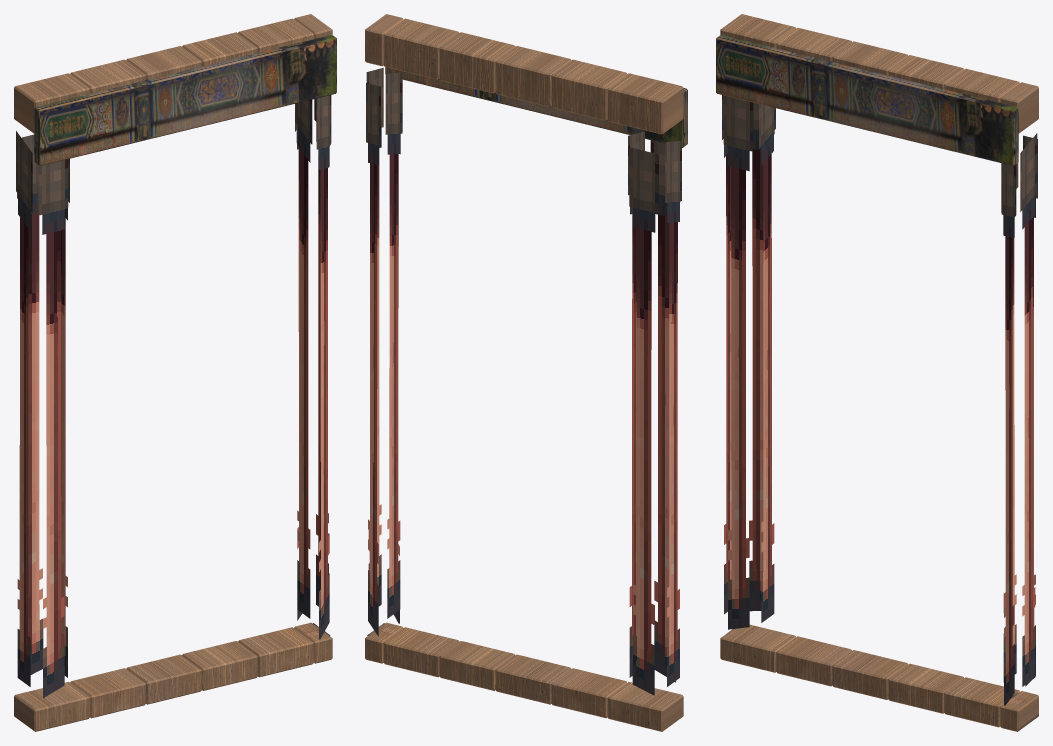
Rendered from door_open.obj.
3 views of the same model, side by side, from view 1: azimuth 30°, elevation 25°; view 2: azimuth 150°, elevation 25°; view 3: azimuth 330°, elevation 25° (orthographic).
Visible parts, largest first — view 1: Facade_joinery.051, Painted_lintel.002, Facade_joinery.052, Facade_joinery.053, Facade_joinery.055, Facade_joinery.056, Facade_joinery.057, Facade_joinery.054, Facade_joinery.045, Facade_joinery.046, Facade_joinery.047, Facade_joinery.048 (+2 smaller); view 2: Facade_joinery.051, Facade_joinery.052, Facade_joinery.045, Facade_joinery.048, Facade_joinery.047, Facade_joinery.049, Facade_joinery.046, Painted_lintel.002, Facade_joinery.053, Facade_joinery.055, Facade_joinery.057, Facade_joinery.054 (+3 smaller); view 3: Facade_joinery.051, Painted_lintel.002, Facade_joinery.052, Facade_joinery.056, Facade_joinery.055, Facade_joinery.054, Facade_joinery.053, Facade_joinery.057, Facade_joinery.048, Facade_joinery.049, Facade_joinery.045, Facade_joinery.046 (+3 smaller).
Part boxes in pixels (x1=…): Facade_joinery.051: x1=16, y1=131, x2=69, y2=706; Painted_lintel.002: x1=34, y1=35, x2=336, y2=165; Facade_joinery.052: x1=295, y1=95, x2=331, y2=639; Facade_joinery.053: x1=14, y1=682, x2=89, y2=731; Facade_joinery.055: x1=126, y1=654, x2=201, y2=704; Facade_joinery.056: x1=182, y1=641, x2=257, y2=690; Facade_joinery.057: x1=238, y1=627, x2=313, y2=677; Facade_joinery.054: x1=70, y1=668, x2=145, y2=718; Facade_joinery.045: x1=14, y1=73, x2=89, y2=133; Facade_joinery.046: x1=70, y1=59, x2=145, y2=93; Facade_joinery.047: x1=126, y1=46, x2=201, y2=79; Facade_joinery.048: x1=182, y1=32, x2=257, y2=65; Facade_joinery.051: x1=628, y1=131, x2=681, y2=701; Facade_joinery.052: x1=366, y1=67, x2=402, y2=636; Facade_joinery.045: x1=607, y1=73, x2=683, y2=134; Facade_joinery.048: x1=439, y1=32, x2=515, y2=93; Facade_joinery.047: x1=495, y1=46, x2=571, y2=107; Facade_joinery.049: x1=383, y1=18, x2=459, y2=79; Facade_joinery.046: x1=551, y1=59, x2=627, y2=120; Painted_lintel.002: x1=385, y1=67, x2=687, y2=147; Facade_joinery.053: x1=607, y1=682, x2=683, y2=731; Facade_joinery.055: x1=495, y1=654, x2=571, y2=704; Facade_joinery.057: x1=383, y1=627, x2=459, y2=677; Facade_joinery.054: x1=551, y1=668, x2=627, y2=717; Facade_joinery.051: x1=722, y1=95, x2=775, y2=634; Painted_lintel.002: x1=716, y1=35, x2=1018, y2=165; Facade_joinery.052: x1=1001, y1=133, x2=1037, y2=707; Facade_joinery.056: x1=888, y1=663, x2=963, y2=713; Facade_joinery.055: x1=832, y1=650, x2=907, y2=699; Facade_joinery.054: x1=776, y1=636, x2=851, y2=686; Facade_joinery.053: x1=720, y1=624, x2=795, y2=672; Facade_joinery.057: x1=944, y1=677, x2=1019, y2=727; Facade_joinery.048: x1=888, y1=55, x2=963, y2=88; Facade_joinery.049: x1=944, y1=68, x2=1019, y2=102; Facade_joinery.045: x1=720, y1=14, x2=795, y2=47; Facade_joinery.046: x1=776, y1=28, x2=851, y2=61.
Bounding box in the file's own units: 32 × 64.66 × 4.8.
